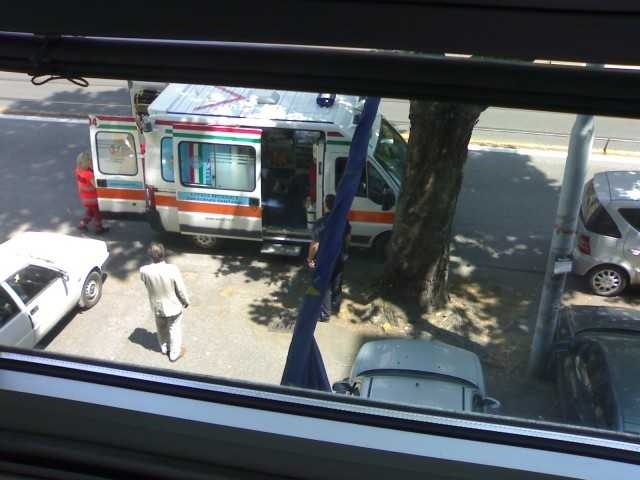Ambulance: (78, 75, 414, 275)
